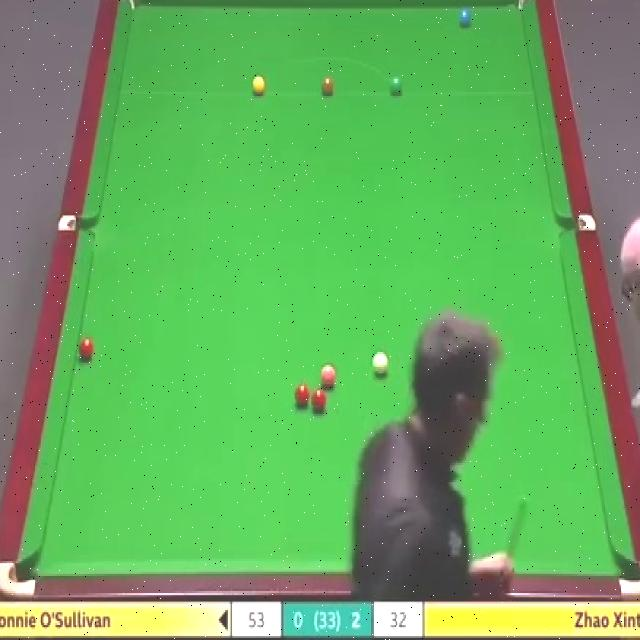blue-ball: (458, 7, 472, 26)
brown-ball: (320, 73, 335, 96)
green-ball: (387, 75, 403, 96)
pink-ball: (319, 362, 337, 388)
red-ball: (310, 387, 328, 412), (78, 337, 95, 361), (295, 382, 311, 404)
white-ball: (370, 351, 389, 380)
yellow-ball: (251, 72, 266, 95)
